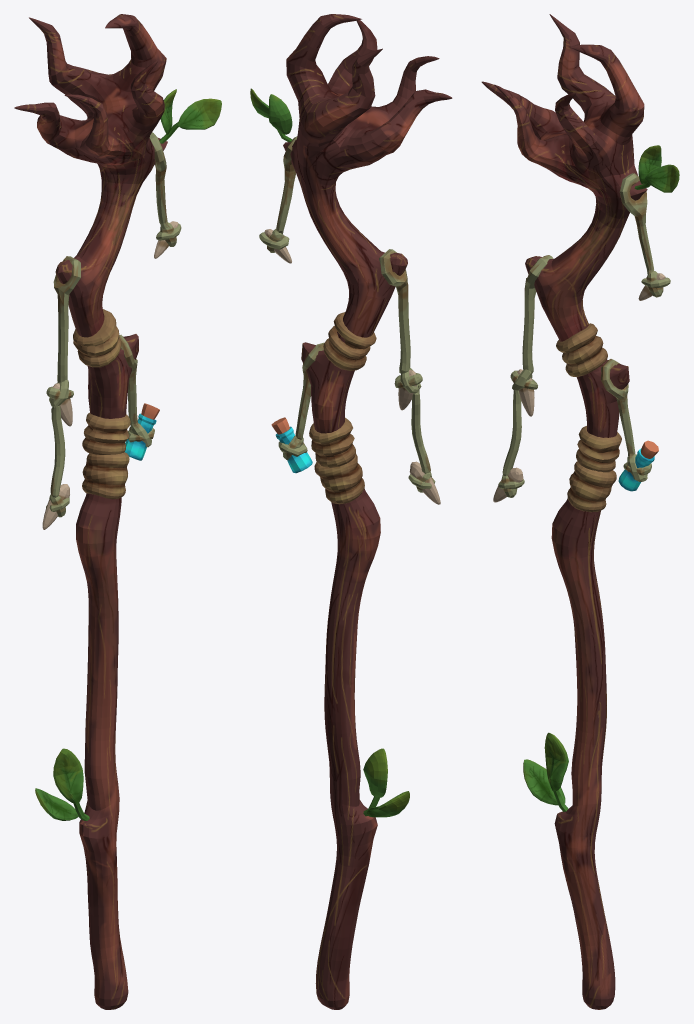
The model's file is stylized_wood_staff.glb.
The picture shows the model from 3 angles, left to right: view 1: azimuth 30°, elevation 25°; view 2: azimuth 150°, elevation 25°; view 3: azimuth 330°, elevation 25°; orthographic projection. The views are drawn at different scales.
Visible parts, largest first — view 1: staff_low, PM3D_Cylinder3D1, PM3D_Cylinder3D1_1_copy1, PM3D_Sphere3D1, PM3D_Cylinder3D1_1, PM3D_Sphere3D2, syaff, PM3D_Cylinder3D1_6; view 2: staff_low, PM3D_Cylinder3D1, PM3D_Cylinder3D1_1_copy1, PM3D_Cylinder3D1_1, PM3D_Sphere3D1, PM3D_Sphere3D2, syaff, PM3D_Cylinder3D1_6; view 3: staff_low, PM3D_Cylinder3D1, PM3D_Cylinder3D1_1_copy1, PM3D_Sphere3D1, PM3D_Cylinder3D1_1, PM3D_Sphere3D2, syaff, PM3D_Cylinder3D1_6.
Part boxes in pixels (x1,y1,x2,y2): staff_low: [14, 14, 167, 1009]; PM3D_Cylinder3D1: [73, 309, 130, 499]; PM3D_Cylinder3D1_1_copy1: [50, 132, 168, 497]; PM3D_Sphere3D1: [35, 748, 83, 820]; PM3D_Cylinder3D1_1: [46, 222, 181, 517]; PM3D_Sphere3D2: [160, 89, 221, 135]; syaff: [42, 221, 178, 529]; PM3D_Cylinder3D1_6: [125, 403, 159, 460]; staff_low: [283, 14, 452, 1009]; PM3D_Cylinder3D1: [309, 312, 376, 504]; PM3D_Cylinder3D1_1_copy1: [276, 136, 430, 473]; PM3D_Cylinder3D1_1: [259, 229, 435, 492]; PM3D_Sphere3D1: [363, 748, 409, 817]; PM3D_Sphere3D2: [250, 88, 292, 134]; syaff: [264, 229, 440, 504]; PM3D_Cylinder3D1_6: [271, 417, 312, 473]; staff_low: [481, 14, 647, 1009]; PM3D_Cylinder3D1: [556, 323, 621, 512]; PM3D_Cylinder3D1_1_copy1: [502, 173, 653, 475]; PM3D_Sphere3D1: [523, 732, 568, 805]; PM3D_Cylinder3D1_1: [498, 271, 670, 497]; PM3D_Sphere3D2: [638, 145, 679, 192]; syaff: [493, 273, 665, 502]; PM3D_Cylinder3D1_6: [618, 440, 658, 491].
Size of the model in its own units: 2.91 by 13.5 by 1.53.
1 material, 1 textured.
